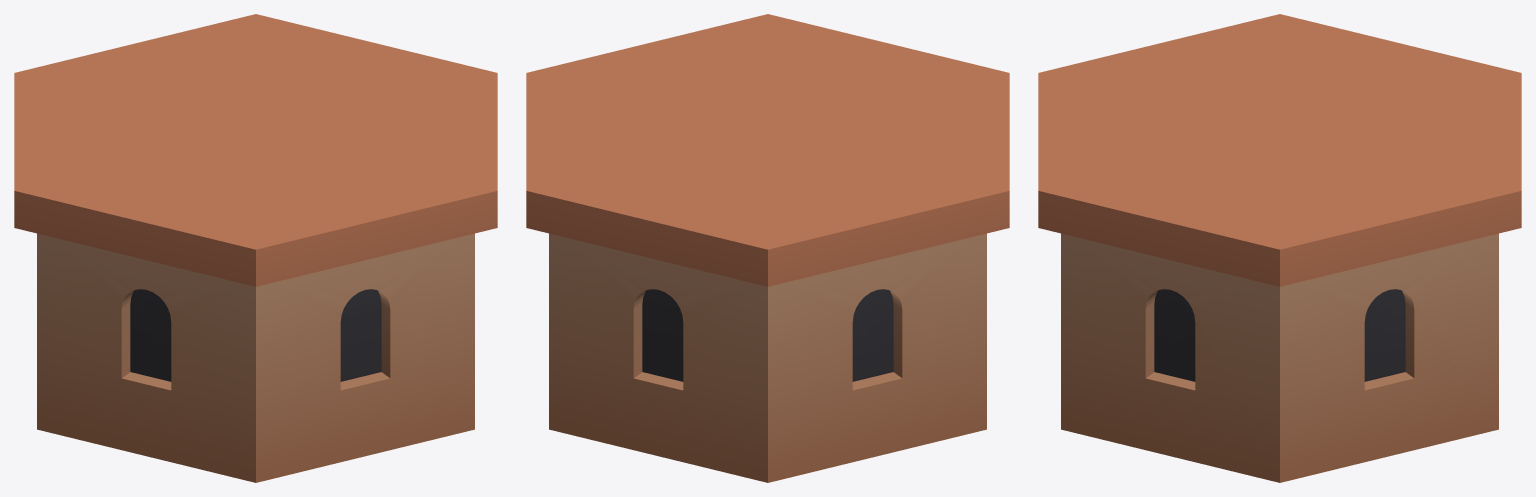
The model's file is tower-hexagon-mid.glb.
The picture shows the model from 3 angles, left to right: view 1: azimuth 30°, elevation 25°; view 2: azimuth 150°, elevation 25°; view 3: azimuth 270°, elevation 25°; orthographic projection.
Visible parts, largest first — view 1: tower-hexagon-mid; view 2: tower-hexagon-mid; view 3: tower-hexagon-mid.
Boxes of the visible parts, x1,y1,x2,y2 form: tower-hexagon-mid: (14, 14, 497, 482); tower-hexagon-mid: (526, 14, 1009, 482); tower-hexagon-mid: (1038, 14, 1521, 482).
Bounding box in the file's own units: 0.9524 × 0.46 × 0.8248.
